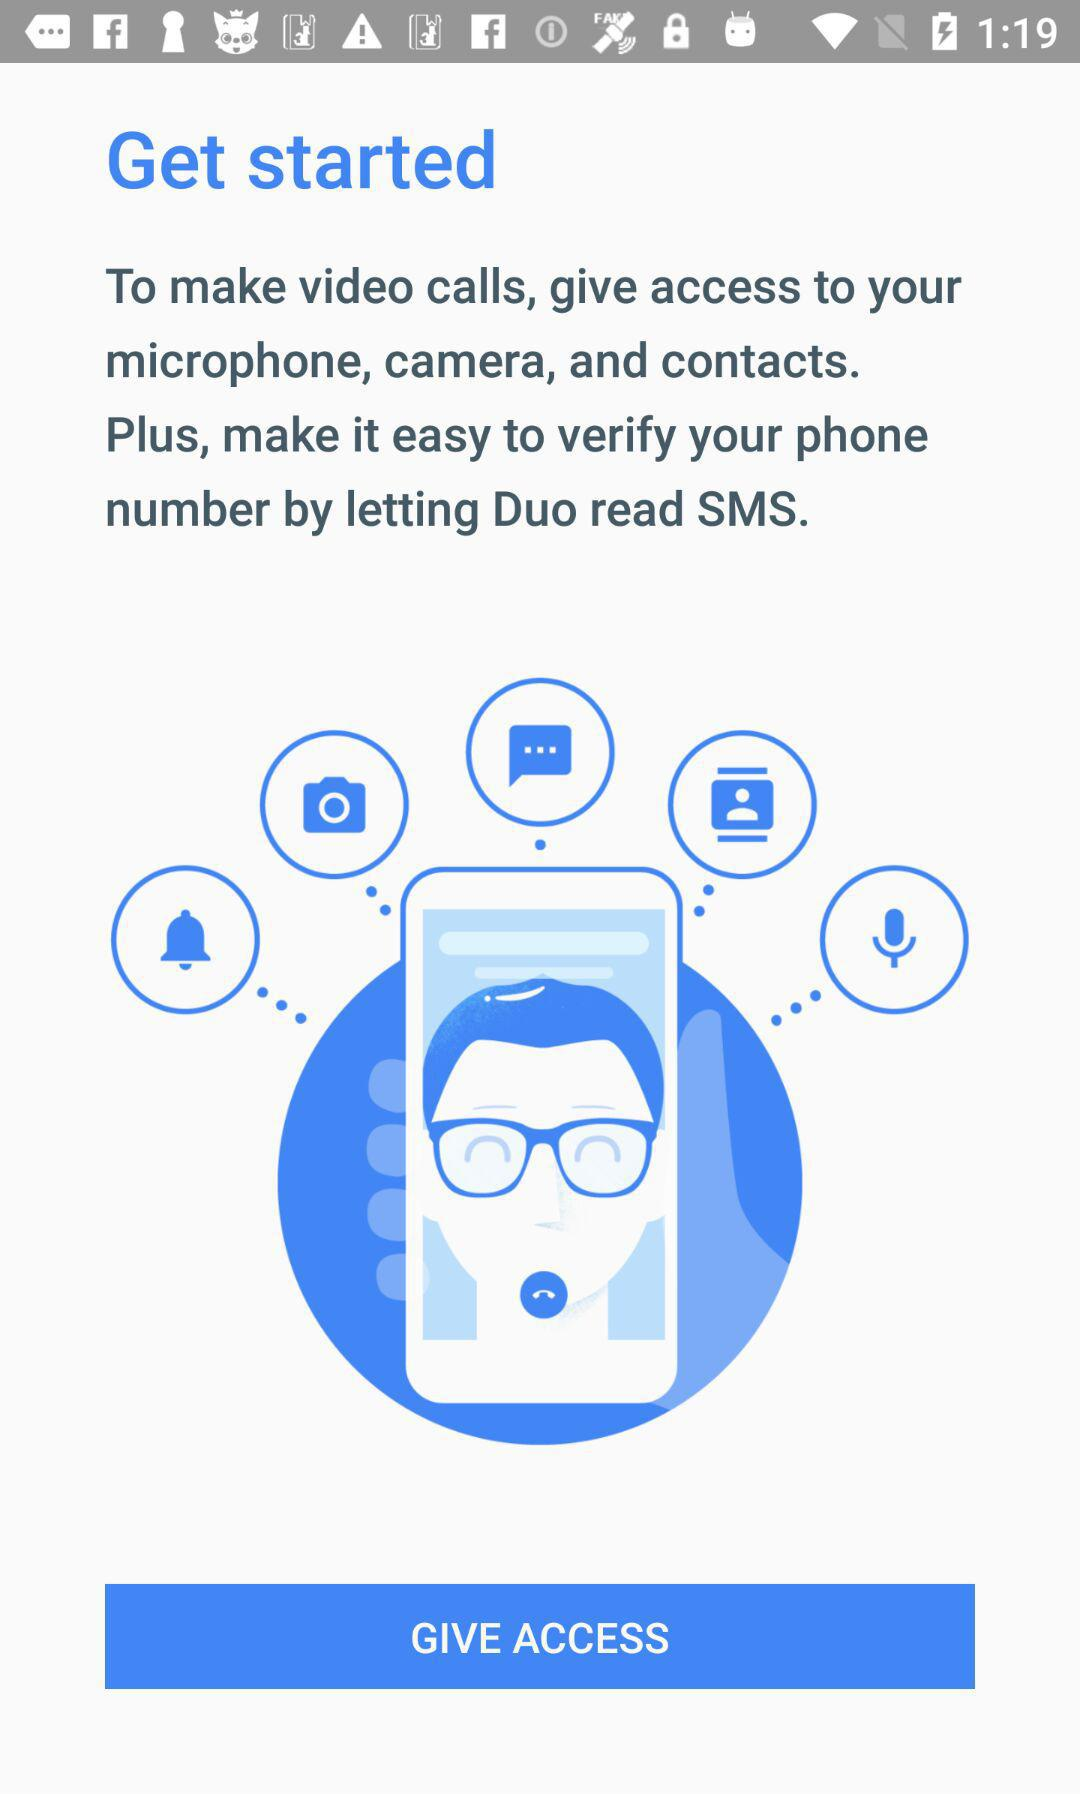Image: (111, 677, 971, 1448)
Text: (105, 267, 963, 539), (109, 128, 496, 192)
TextButton: (105, 1583, 976, 1690)
UpperTaskBar: (1, 1, 1080, 64)
